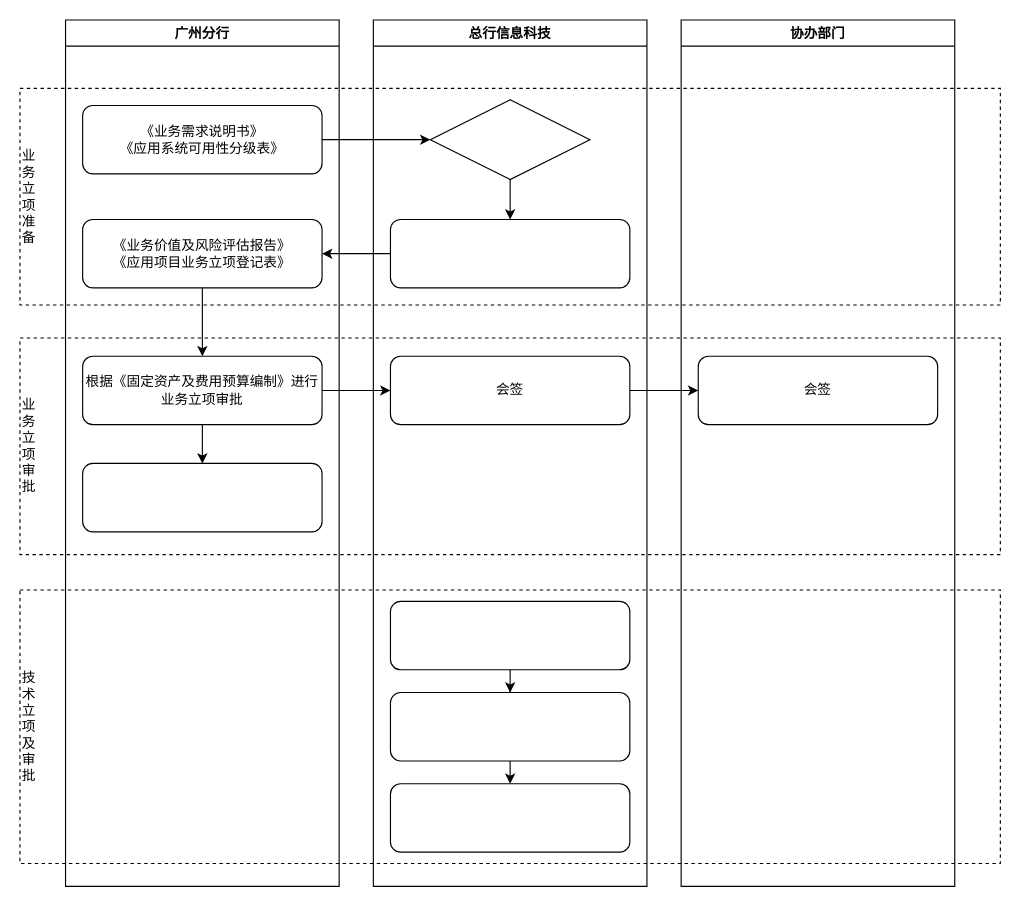
The diagram is 1020 pixels wide and 906 high, and some of its shapes have lost their labels. Each missing label, with the centre of its shape:
"《应用项目技术评估意见表》" goes at (x=509, y=253).
"向信息科技、协办单位发出项目业务立项完成通知，成立项目管理小组" goes at (x=202, y=497).
"技术方案编写与审核、与主办部门确定项目范围、制定实施计划，编写《应用项目技术方案建议书》" goes at (x=509, y=635).
"按《大丰银行科技管理委员会章程》完成技术立项审批" goes at (x=509, y=726).
"按《采购管理办法》《集中采购评审管理办法》确定外包供应商，完成项目采购及技术立项审批" goes at (x=509, y=817).
"需求整合 完善建议" goes at (x=509, y=139).
